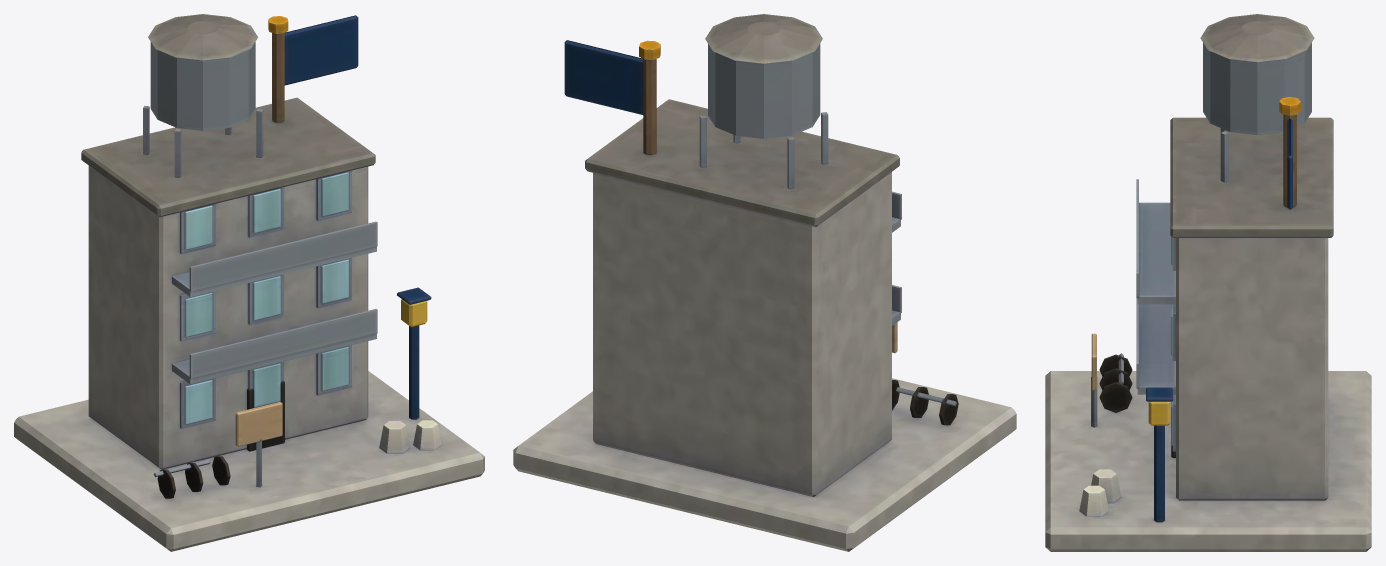
File: shelters-15.glb
3 renders of one model, left to right at view 1: azimuth 30°, elevation 25°; view 2: azimuth 150°, elevation 25°; view 3: azimuth 270°, elevation 25°, orthographic. The views are drawn at different scales.
Parts seen in each view (by area): view 1: shelters-15; view 2: shelters-15; view 3: shelters-15.
Boxes of the visible parts, x1,y1,x2,y2 form: shelters-15: (14,14,484,551); shelters-15: (513,14,1016,551); shelters-15: (1045,14,1371,551).
Bounding box in the file's own units: 1.4 × 1.76 × 1.2.
1 material, 1 textured.
